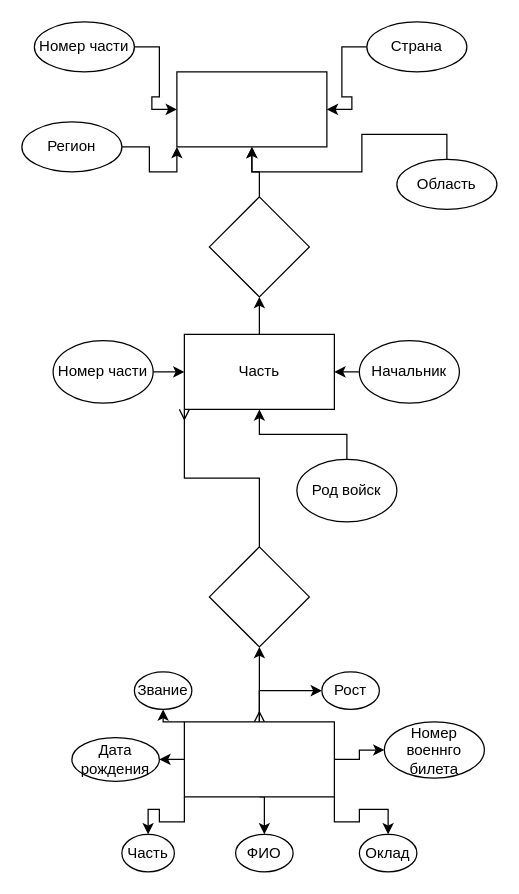
Image size: 519x894. Some labels were removed from this diagram. The shapes that lost their labels are listed below. From the top down, each one's centre as x and y in pixels, then its label:
the point at 251,109: Местоположение
the point at 258,246: находится
the point at 258,596: Служат
the point at 258,759: Солдат
